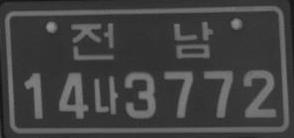1: (21, 72, 48, 120)
2: (241, 69, 277, 119)
3: (123, 70, 156, 120)
4: (58, 71, 89, 119)
7: (162, 68, 195, 119), (201, 68, 234, 119)
나: (92, 75, 119, 116)
전남_D: (70, 20, 213, 61)
